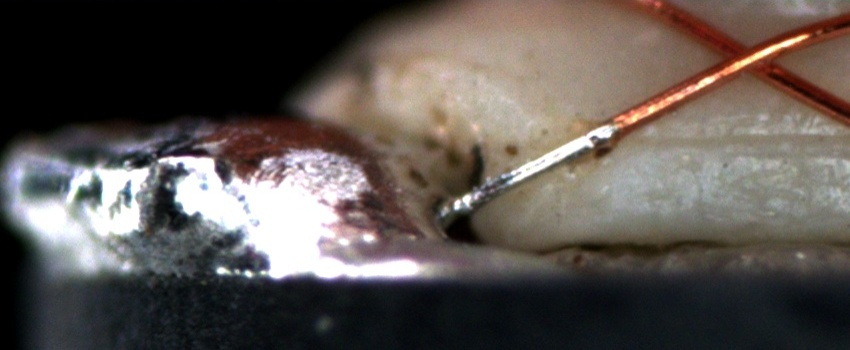CL: (703, 25, 805, 88)
DL: (635, 109, 850, 173)
TS: (435, 118, 618, 222)
